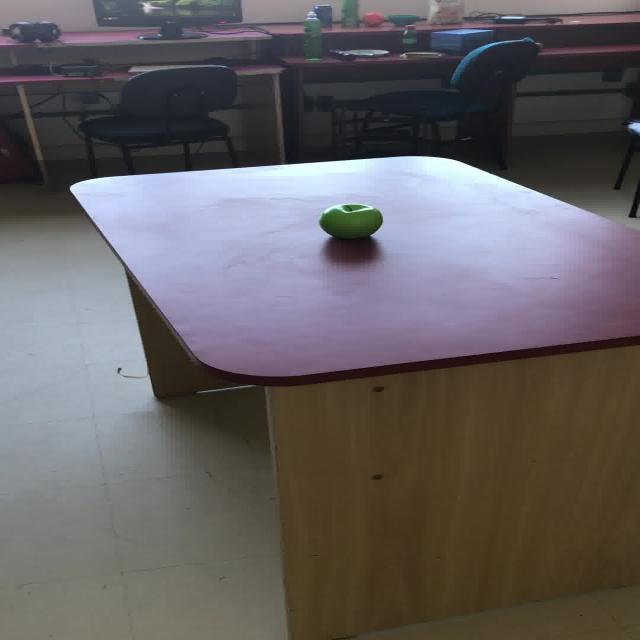apple: (318, 203, 382, 238), (360, 12, 383, 26)
